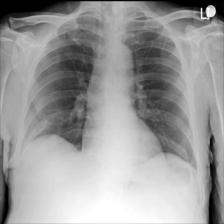normal: (16, 5, 198, 172)
